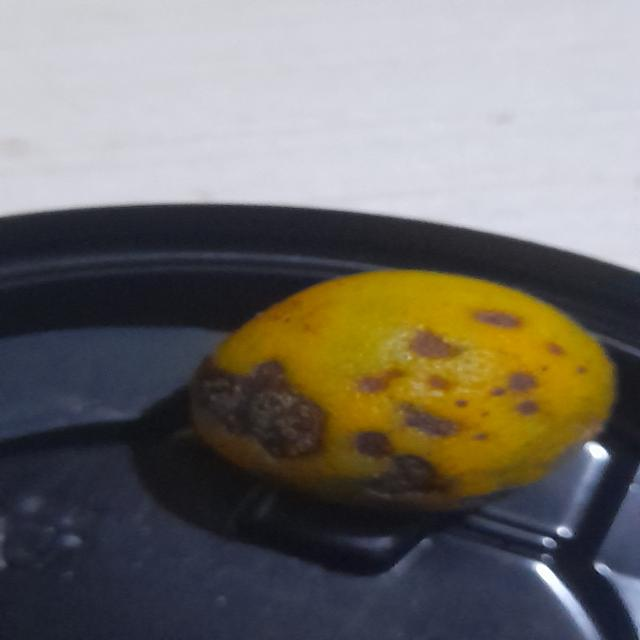black spot: (183, 264, 634, 532)
